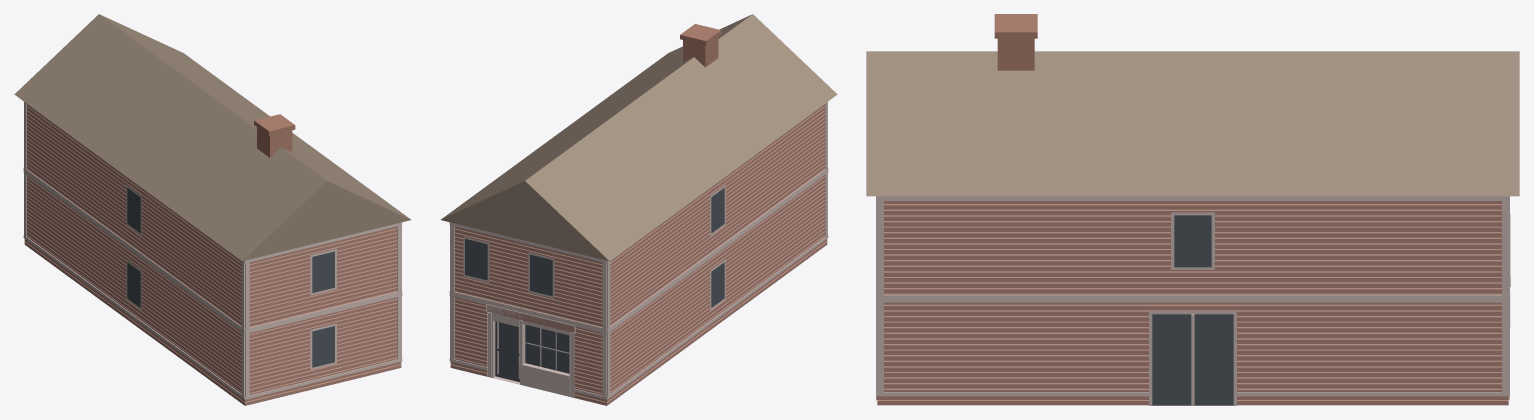
The model's file is recon_1835_south_c3_040__inferred_1835.glb.
3 renders of one model, left to right at view 1: azimuth 30°, elevation 25°; view 2: azimuth 150°, elevation 25°; view 3: azimuth 270°, elevation 25°, orthographic. The views are drawn at different scales.
Parts seen in each view (by area): view 1: recon_1835_south_c3_040__inferred_1835; view 2: recon_1835_south_c3_040__inferred_1835; view 3: recon_1835_south_c3_040__inferred_1835.
Part boxes in pixels (bbox=[...]): recon_1835_south_c3_040__inferred_1835: bbox=[14, 14, 410, 405]; recon_1835_south_c3_040__inferred_1835: bbox=[441, 14, 837, 405]; recon_1835_south_c3_040__inferred_1835: bbox=[866, 14, 1519, 405].
Size of the model in its own units: 6.36 by 8.21 by 14.83.
